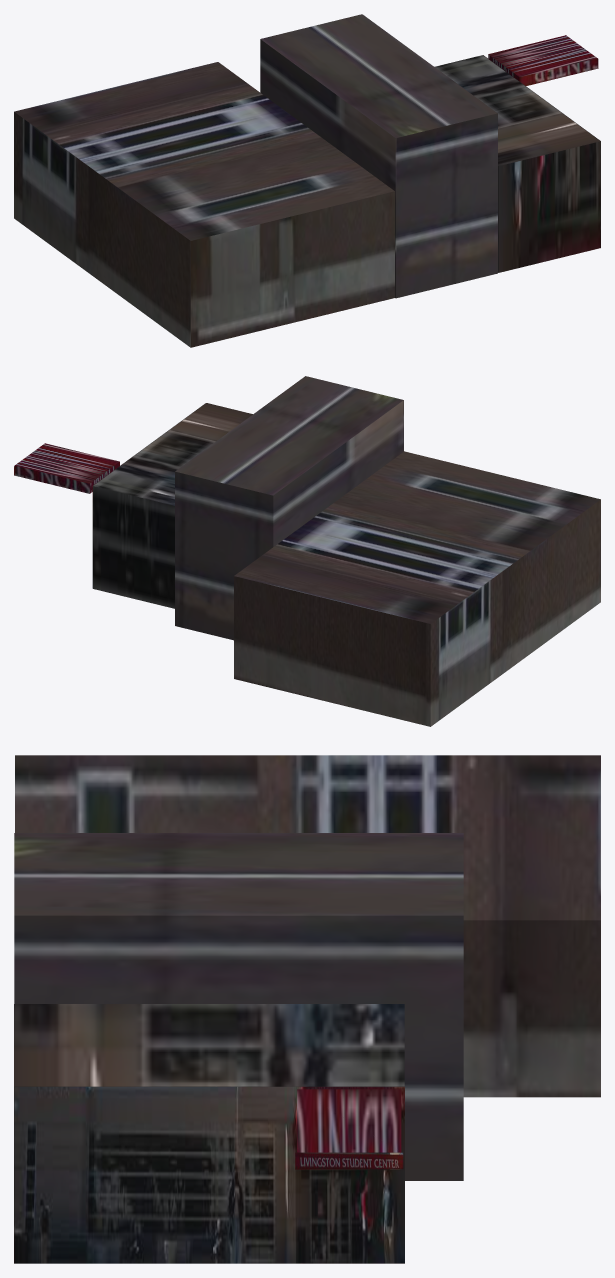
Rendered from lsc.glb.
3 renders of one model, top to bottom at view 1: azimuth 30°, elevation 25°; view 2: azimuth 150°, elevation 25°; view 3: azimuth 270°, elevation 25°, orthographic. The views are drawn at different scales.
Visible parts, largest first — view 1: Cube.002, Cube.001, Cube.003, Cube; view 2: Cube.002, Cube.001, Cube.003, Cube; view 3: Cube.001, Cube.002, Plane, Cube.003, Cube, Plane.001.
Boxes of the visible parts, left/top/right/bottom form: Cube.002: left=14, top=62, right=394, bottom=347; Cube.001: left=260, top=14, right=497, bottom=298; Cube.003: left=434, top=55, right=600, bottom=272; Cube: left=488, top=35, right=597, bottom=85; Cube.002: left=234, top=451, right=600, bottom=726; Cube.001: left=175, top=376, right=403, bottom=640; Cube.003: left=93, top=403, right=252, bottom=608; Cube: left=14, top=443, right=119, bottom=493; Cube.001: left=14, top=833, right=463, bottom=1180; Cube.002: left=15, top=755, right=600, bottom=1097; Plane: left=14, top=1086, right=404, bottom=1263; Cube.003: left=14, top=1004, right=404, bottom=1263; Cube: left=297, top=1089, right=401, bottom=1152; Plane.001: left=295, top=1152, right=403, bottom=1169.
Bounding box in the file's own units: 30.73 × 9.56 × 19.16.
6 materials, 6 textured.
